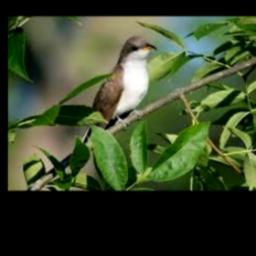Cuckoo: (77, 36, 158, 150)
